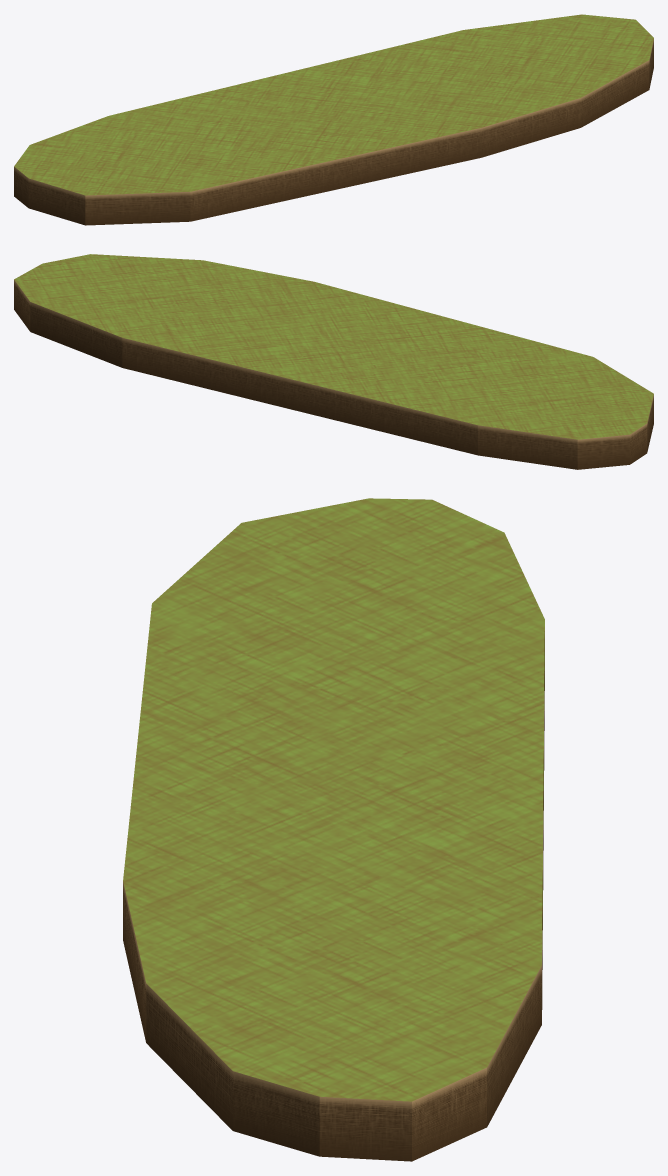
File: Terrain05_E.FBX
3 renders of one model, top to bottom at view 1: azimuth 30°, elevation 25°; view 2: azimuth 150°, elevation 25°; view 3: azimuth 270°, elevation 25°, orthographic. The views are drawn at different scales.
Parts seen in each view (by area): view 1: Terrain05_E; view 2: Terrain05_E; view 3: Terrain05_E.
Part boxes in pixels (x1=…): Terrain05_E: x1=14, y1=14, x2=653, y2=225; Terrain05_E: x1=14, y1=254, x2=653, y2=469; Terrain05_E: x1=123, y1=498, x2=544, y2=1161.
Size of the model in its own units: 1091 by 50.55 by 322.
1 material, 1 textured.
